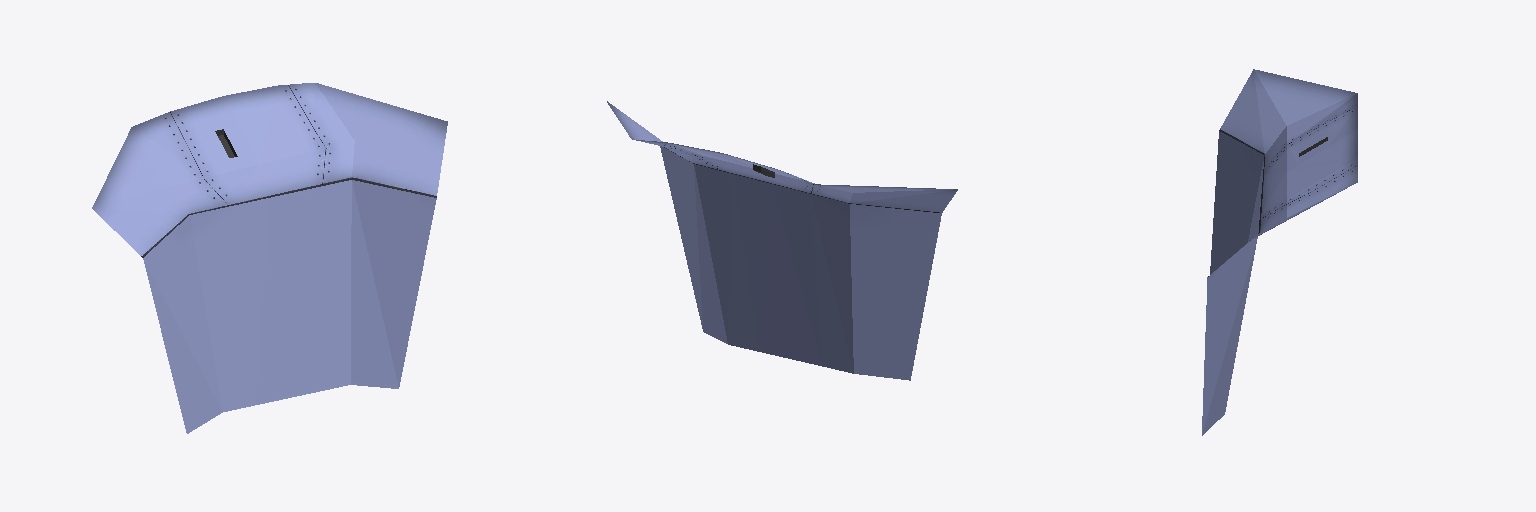
3 renders of one model, left to right at view 1: azimuth 30°, elevation 25°; view 2: azimuth 150°, elevation 25°; view 3: azimuth 270°, elevation 25°, orthographic.
Visible parts, largest first — view 1: Panel; view 2: Panel; view 3: Panel.
Boxes of the visible parts, x1,y1,x2,y2 form: Panel: [92, 83, 447, 433]; Panel: [607, 101, 957, 380]; Panel: [1202, 69, 1357, 435].
Bounding box in the file's own units: 30.07 × 21.06 × 11.49.
1 materials, 1 textured.